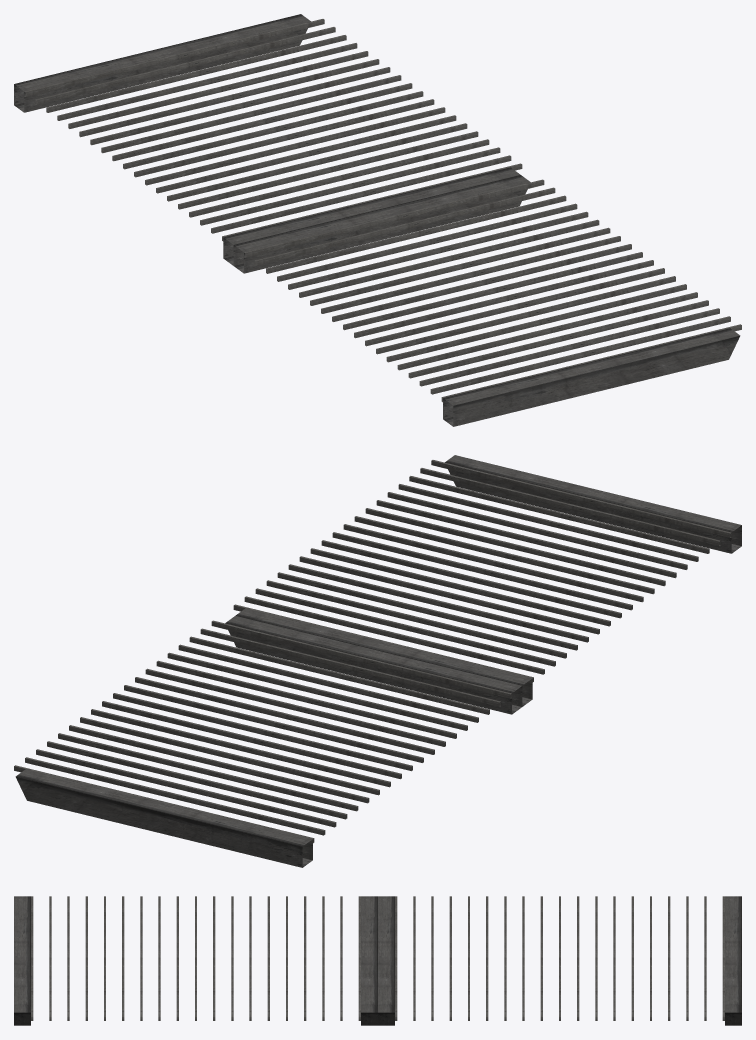
The model's file is deck_half.fbx.
3 renders of one model, top to bottom at view 1: azimuth 30°, elevation 25°; view 2: azimuth 150°, elevation 25°; view 3: azimuth 270°, elevation 25°, orthographic. The views are drawn at different scales.
Parts seen in each view (by area): view 1: 对象001.001; view 2: 对象001.001; view 3: 对象001.001.
Part boxes in pixels (box(x1,y1,x2,y2)): 对象001.001: box(14, 14, 741, 426); 对象001.001: box(14, 455, 741, 867); 对象001.001: box(14, 896, 741, 1025).
Size of the model in its own units: 2513 by 171 by 6400.
